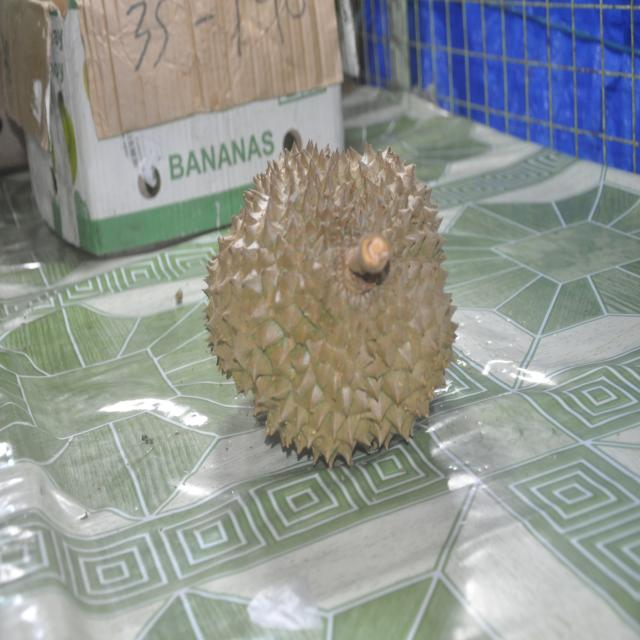mature: (205, 141, 457, 468)
